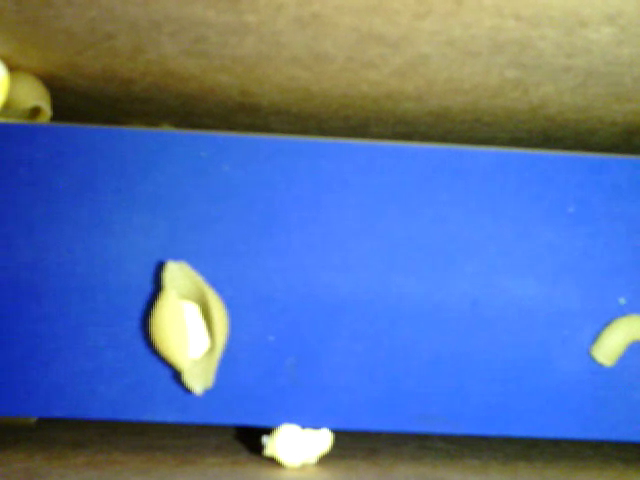elbow: (588, 311, 637, 373)
shell: (137, 255, 229, 396), (1, 71, 52, 125)
